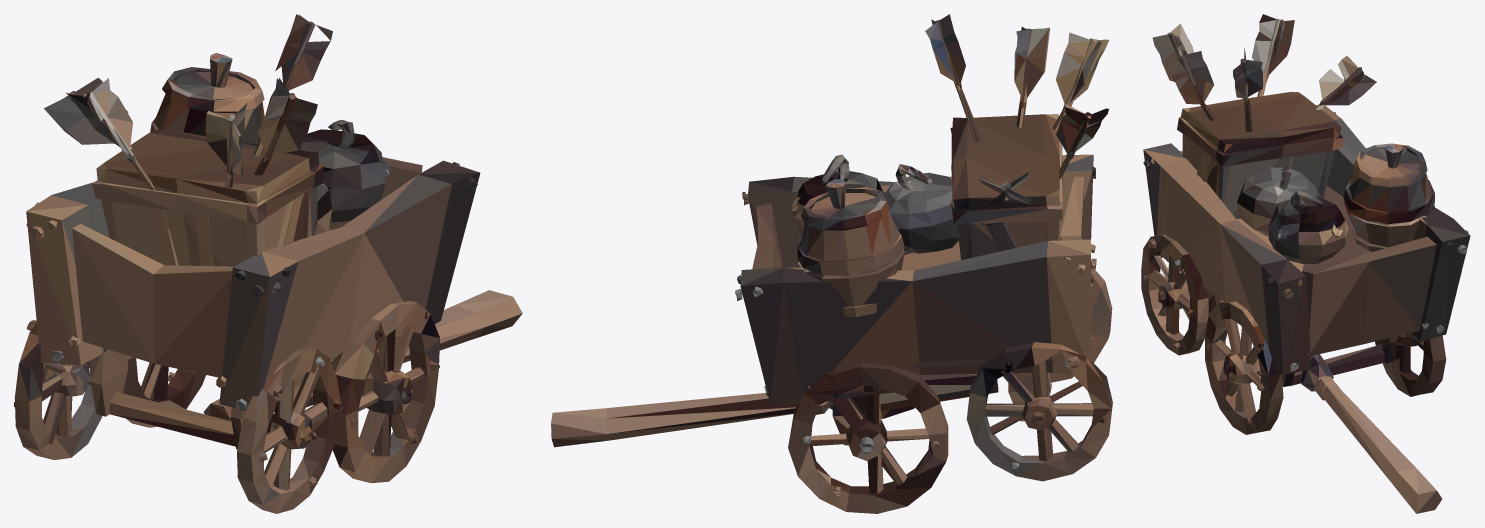
File: Cart_Supply.glb
3 renders of one model, left to right at view 1: azimuth 30°, elevation 25°; view 2: azimuth 150°, elevation 25°; view 3: azimuth 270°, elevation 25°, orthographic. The views are drawn at different scales.
Visible parts, largest first — view 1: world; view 2: world; view 3: world.
Boxes of the visible parts, x1,y1,x2,y2 form: world: (14,14,522,513); world: (551,14,1112,513); world: (1141,14,1470,513).
Size of the model in its own units: 0.5039 by 0.4043 by 0.3437.
